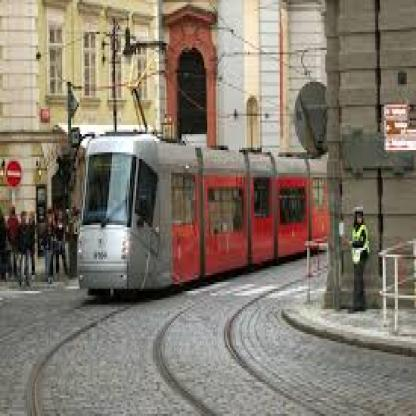car: (69, 133, 341, 312)
